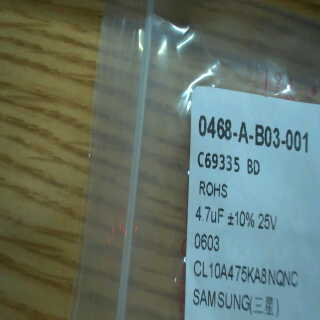4.7uF: (188, 202, 226, 226)
